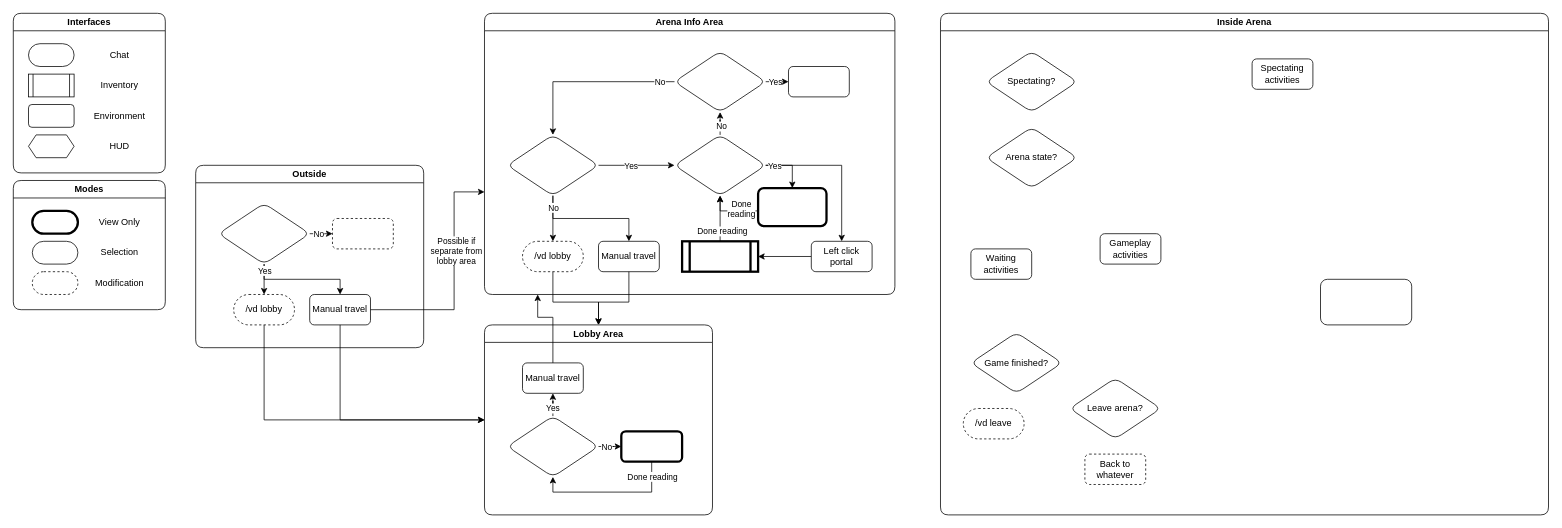
Image size: 1562x528. Some labels were removed from this diagram. The shapes that lost their labels are listed below. From the top down, each one's centre as x and y in pixels, then its label:
the point at 720,81: Join arena?
the point at 818,81: Righ click portal
the point at 552,165: Still like this arena?
the point at 720,165: Need more info?
the point at 792,207: Observe arena board & stats
the point at 264,233: Play VD?
the point at 362,233: Other stuff :(
the point at 720,256: Read arena info GUI
the point at 1366,302: Dead
the point at 552,446: Found a suitable arena?
the point at 651,446: Read info boards
